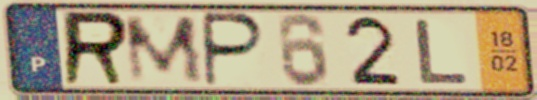2: (342, 14, 403, 88)
6: (274, 11, 332, 90)
L: (414, 17, 473, 85)
M: (120, 13, 208, 86)
P: (202, 10, 269, 90)
R: (59, 8, 132, 88)
